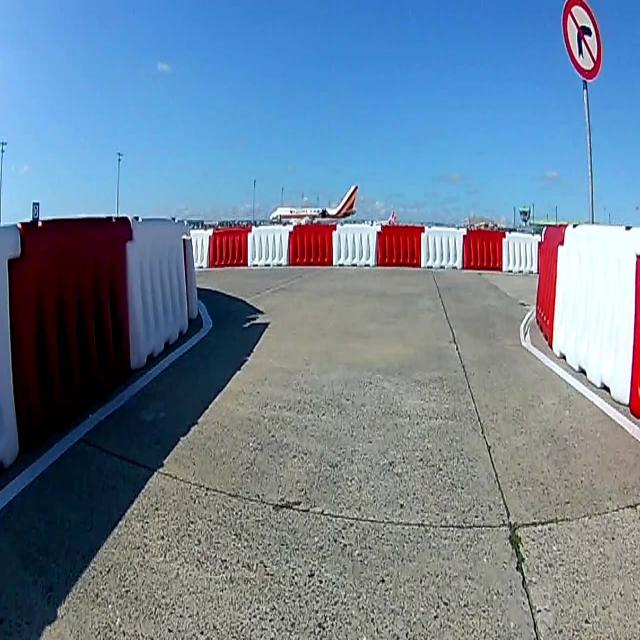sagadonulmez: (562, 2, 602, 82)
